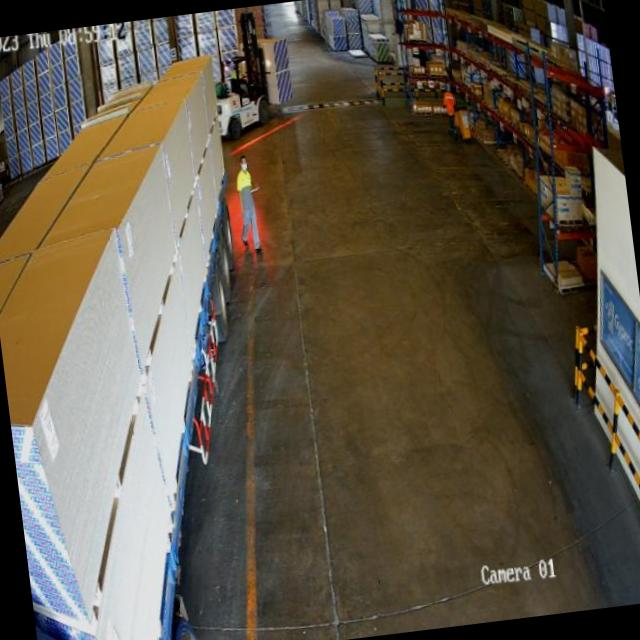forklift: (210, 55, 272, 144)
person: (228, 148, 266, 266), (440, 78, 460, 140)
